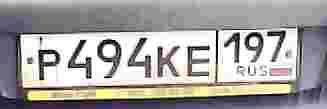license-plateSW: (19, 27, 302, 89)
